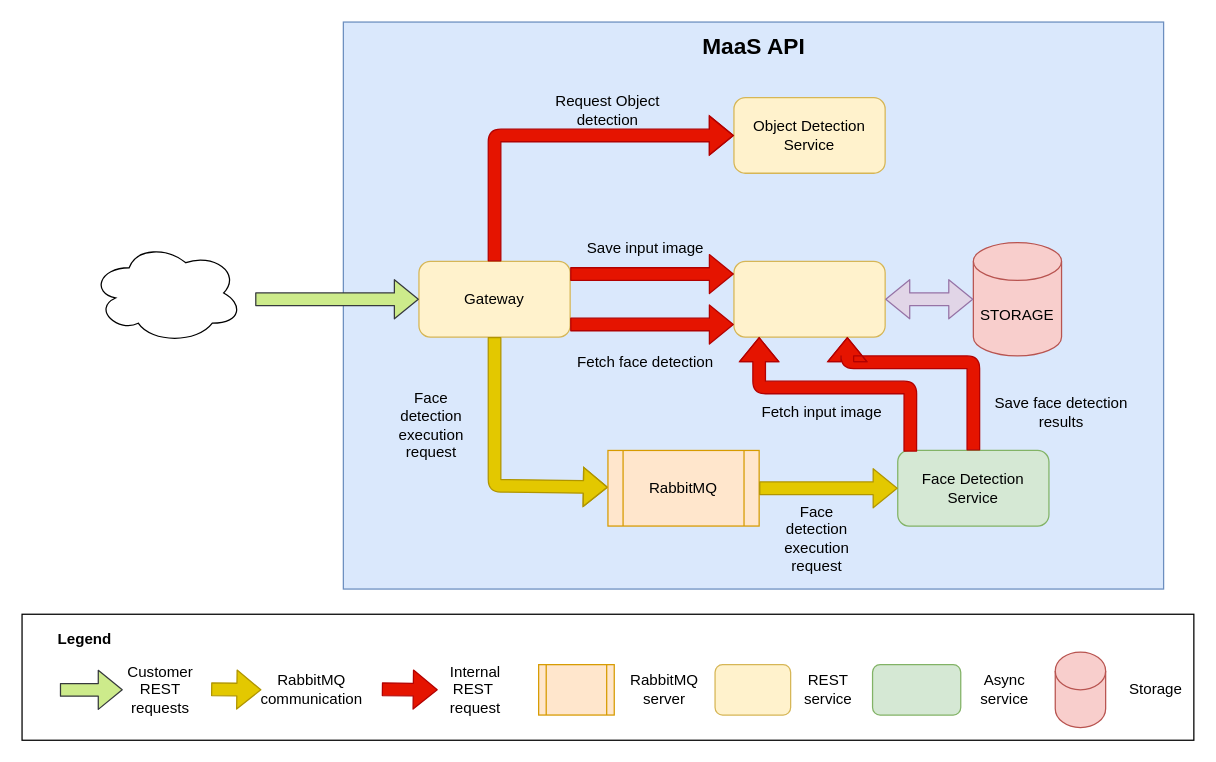
Some shapes in this 1216 by 762 pixel diagram are drawn without their labels. The centre of each missing label's shape, as x and y in pixels:
"Outside world" belongs at (x=166, y=292).
"Resource Manager Service" belongs at (x=809, y=298).
